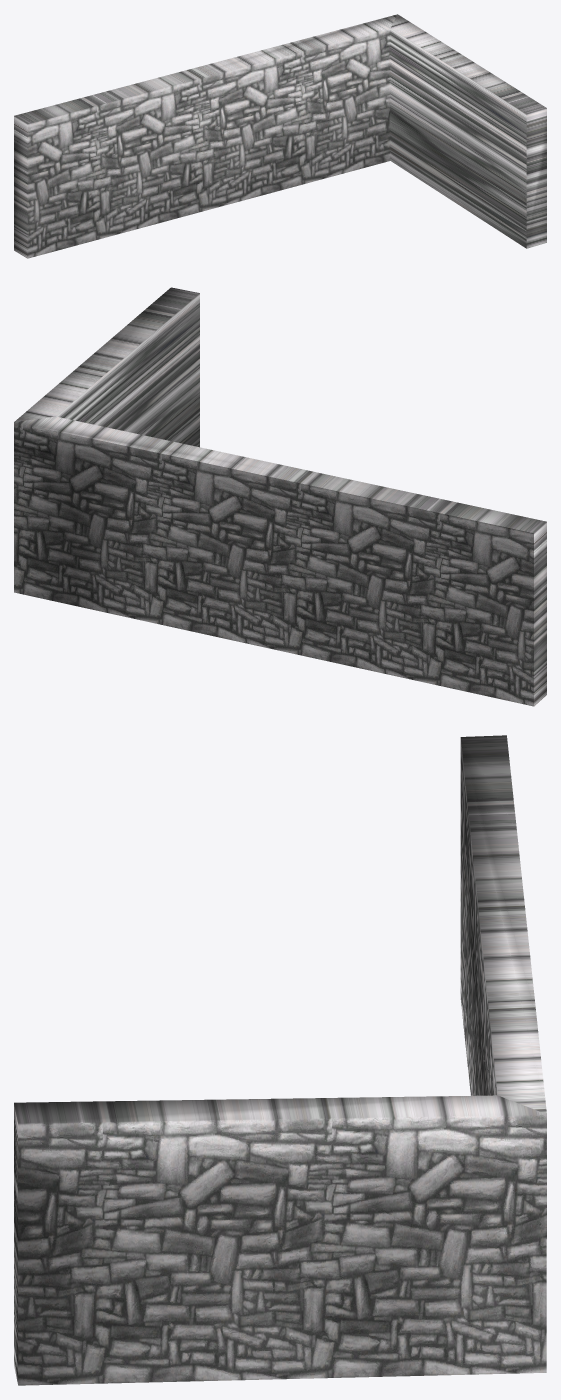
The model's file is HTOWN01_BAGENDRETAINWALL.fbx.
3 views of the same model, one above another, from view 1: azimuth 30°, elevation 25°; view 2: azimuth 150°, elevation 25°; view 3: azimuth 270°, elevation 25° (orthographic). The views are drawn at different scales.
Parts seen in each view (by area): view 1: HTOWN01_BAGENDRETAINWALL; view 2: HTOWN01_BAGENDRETAINWALL; view 3: HTOWN01_BAGENDRETAINWALL.
Part boxes in pixels (<box>): HTOWN01_BAGENDRETAINWALL: <box>14,14,546,258</box>; HTOWN01_BAGENDRETAINWALL: <box>14,287,546,706</box>; HTOWN01_BAGENDRETAINWALL: <box>14,735,546,1385</box>.
Bounding box in the file's own units: 64720 × 20434 × 37594.
1 material, 1 textured.
